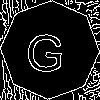G: (25, 25, 65, 72)
